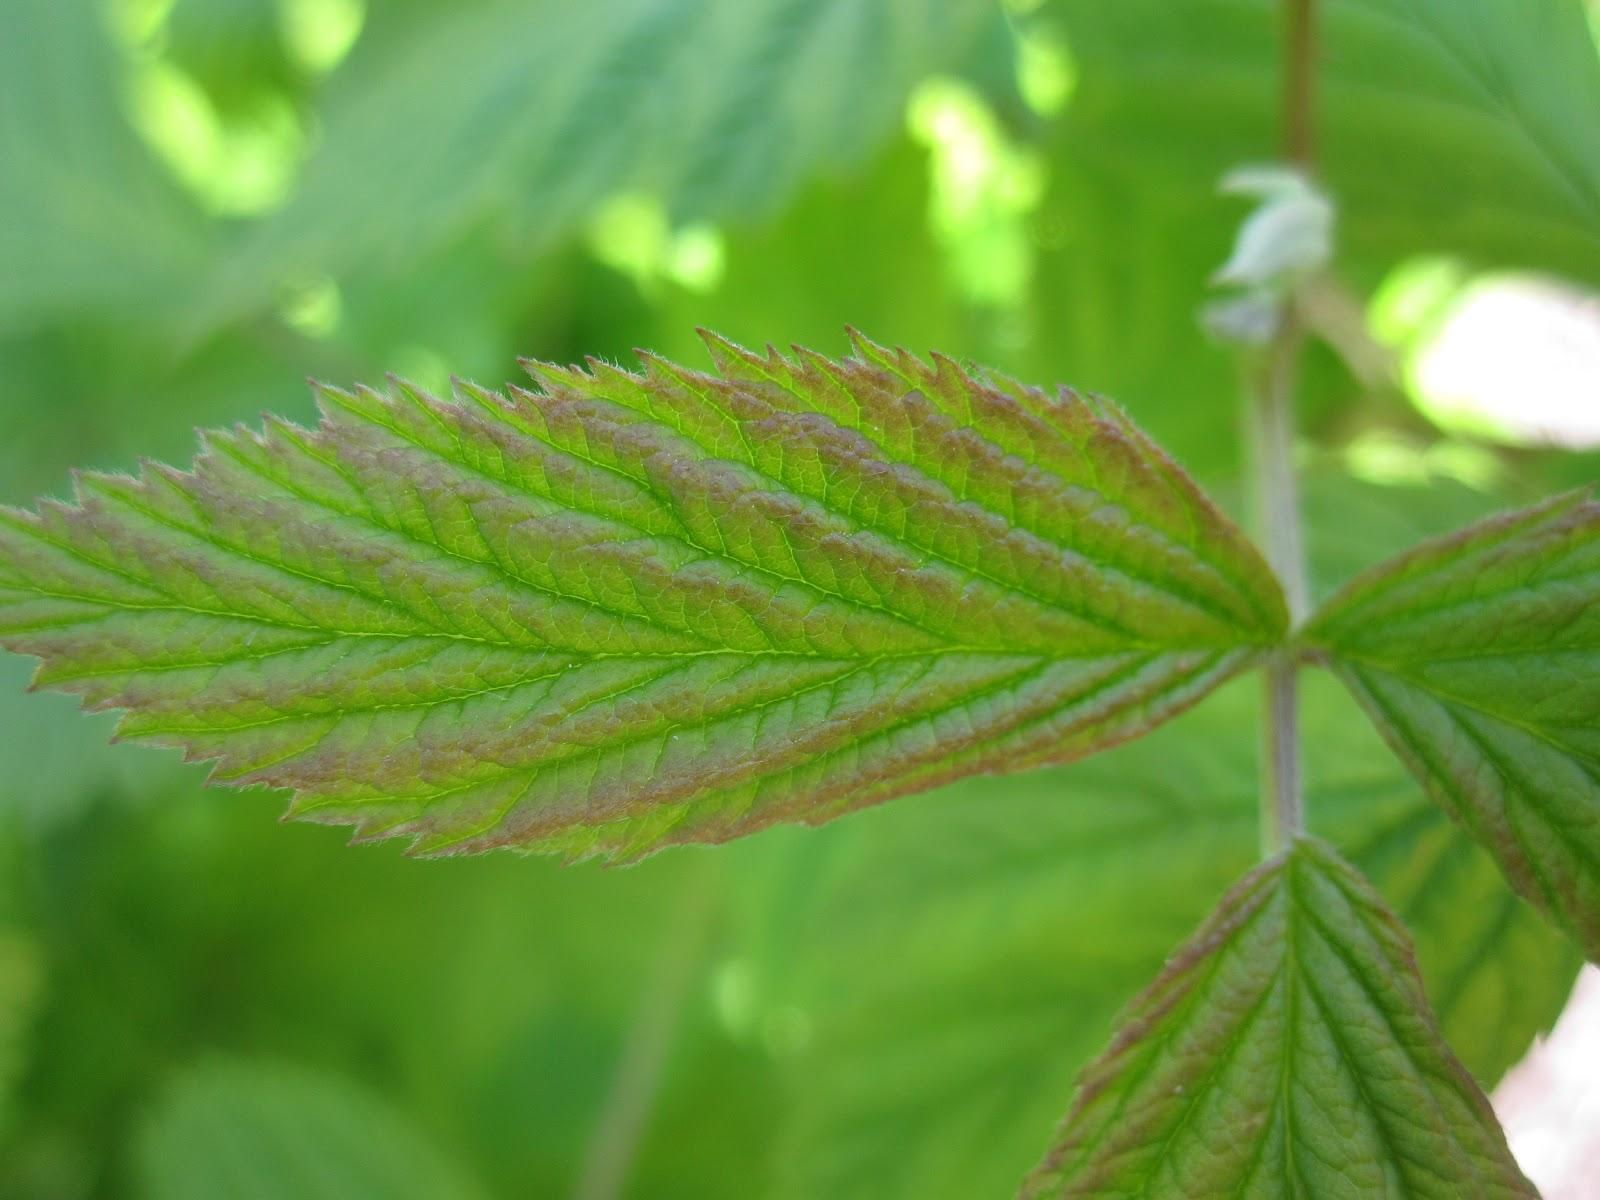Raspberry leaf: (1, 328, 1286, 872), (1003, 833, 1541, 1200)
